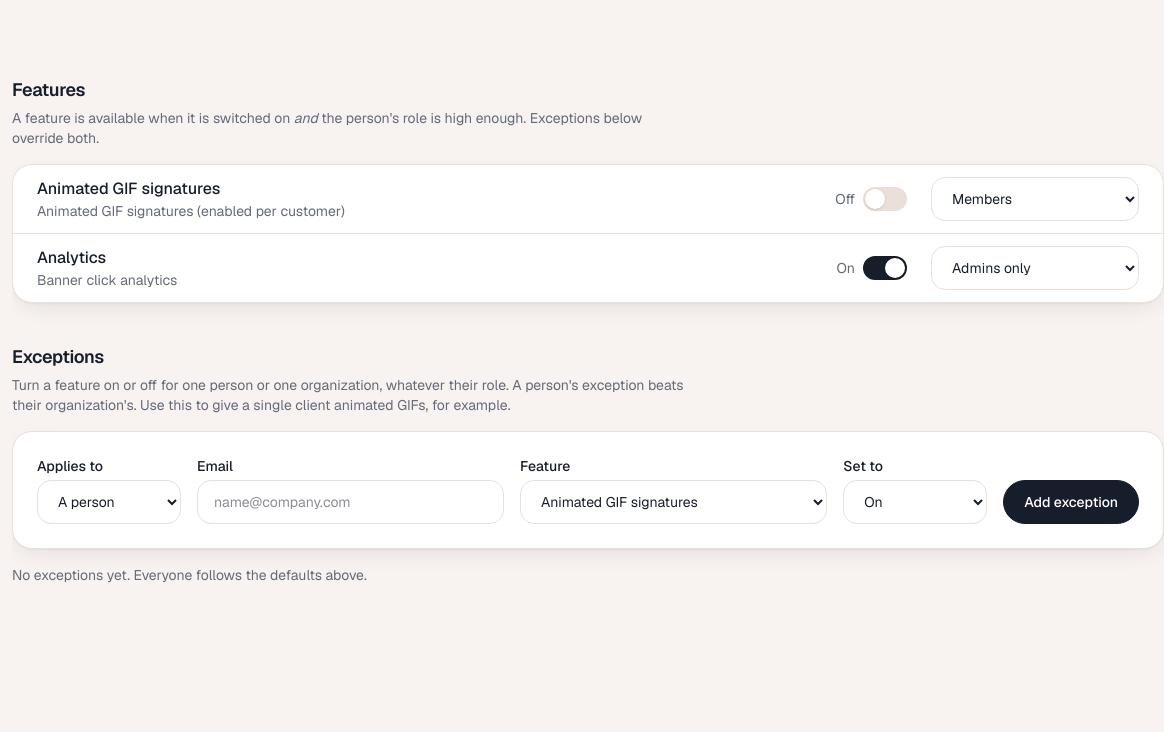
Features screen › keeps what was typed when adding fails, so it can be corrected
Type "ghost@client.com" into the field labelled "Email" at (351,502), box [197,480,504,524]
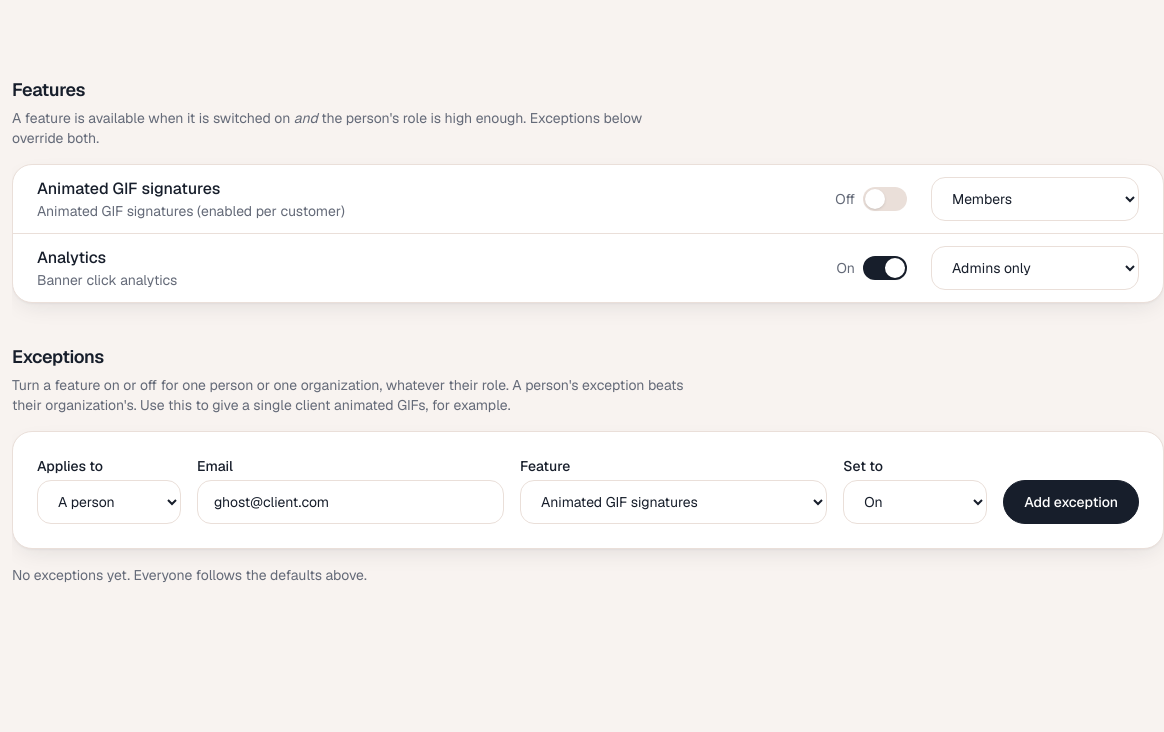
Click the button "Add exception" at (1071,502), box [1003,480,1139,524]
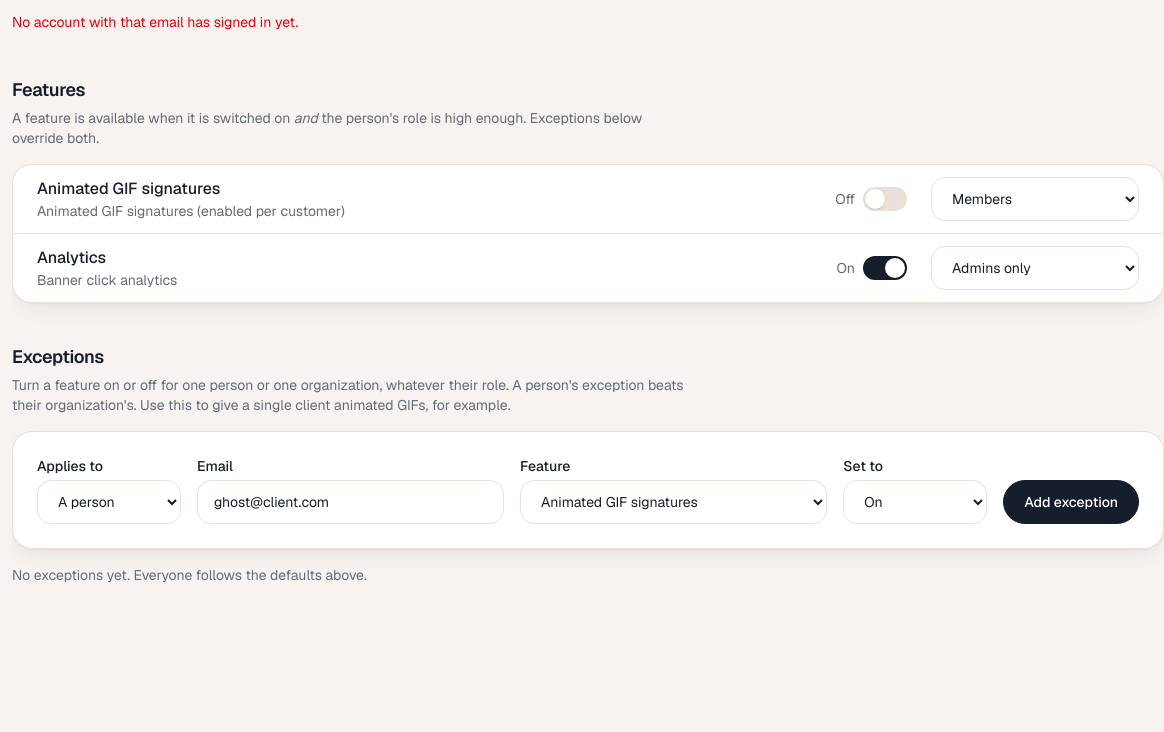
Now the text "No account with that email has signed in yet." is shown, box [12,13,298,31]
